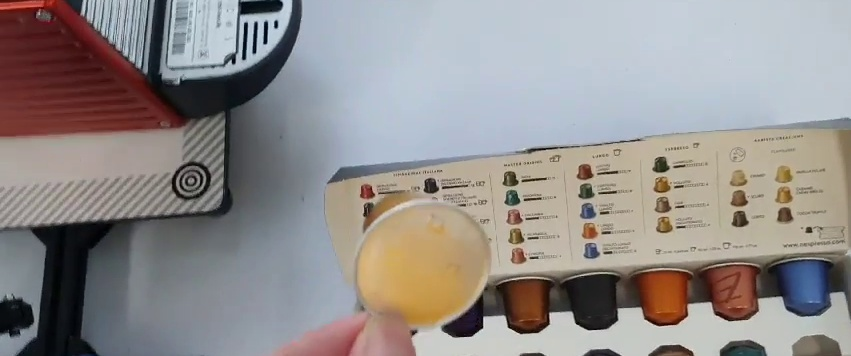capsule_8: (353, 188, 490, 333)
